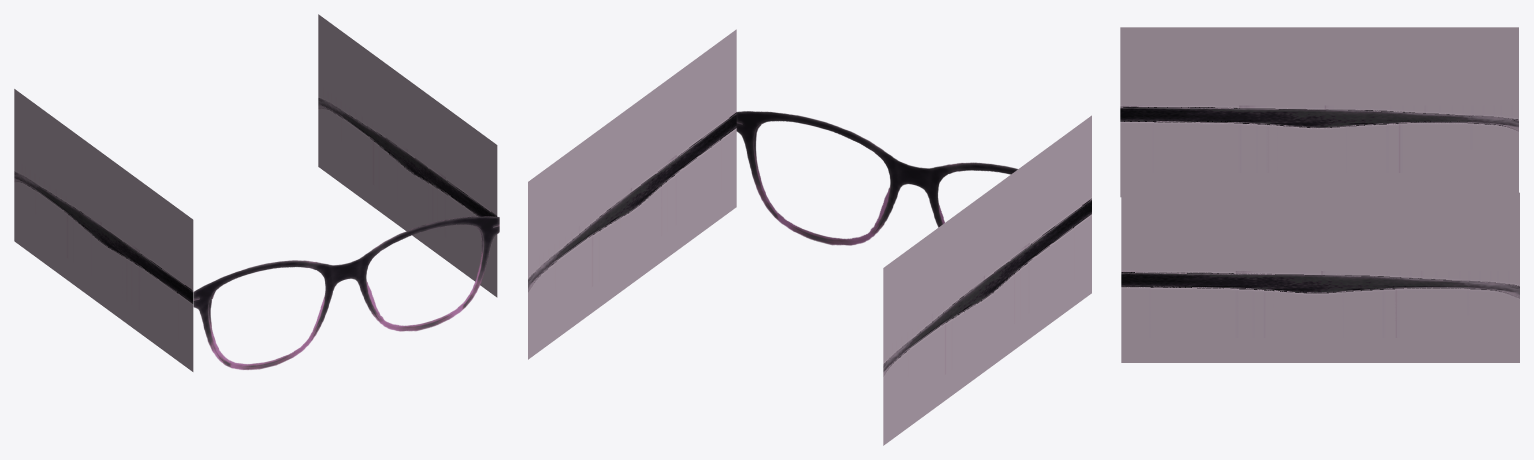
File: gotham-style-flex-87-f4.glb
The picture shows the model from 3 angles, left to right: view 1: azimuth 30°, elevation 25°; view 2: azimuth 150°, elevation 25°; view 3: azimuth 270°, elevation 25°; orthographic projection. The views are drawn at different scales.
Visible parts, largest first — view 1: Right, Left, Front; view 2: Left, Right, Front; view 3: Left, Right.
Boxes of the visible parts, x1,y1,x2,y2 form: Right: [14, 89, 193, 371]; Left: [318, 14, 497, 297]; Front: [193, 216, 499, 369]; Left: [528, 29, 736, 359]; Right: [883, 115, 1091, 445]; Front: [736, 111, 1017, 245]; Left: [1121, 192, 1519, 362]; Right: [1120, 27, 1518, 197].
Size of the model in its own units: 147 by 109 by 149.
Materials: 4 (4 with a texture image).
